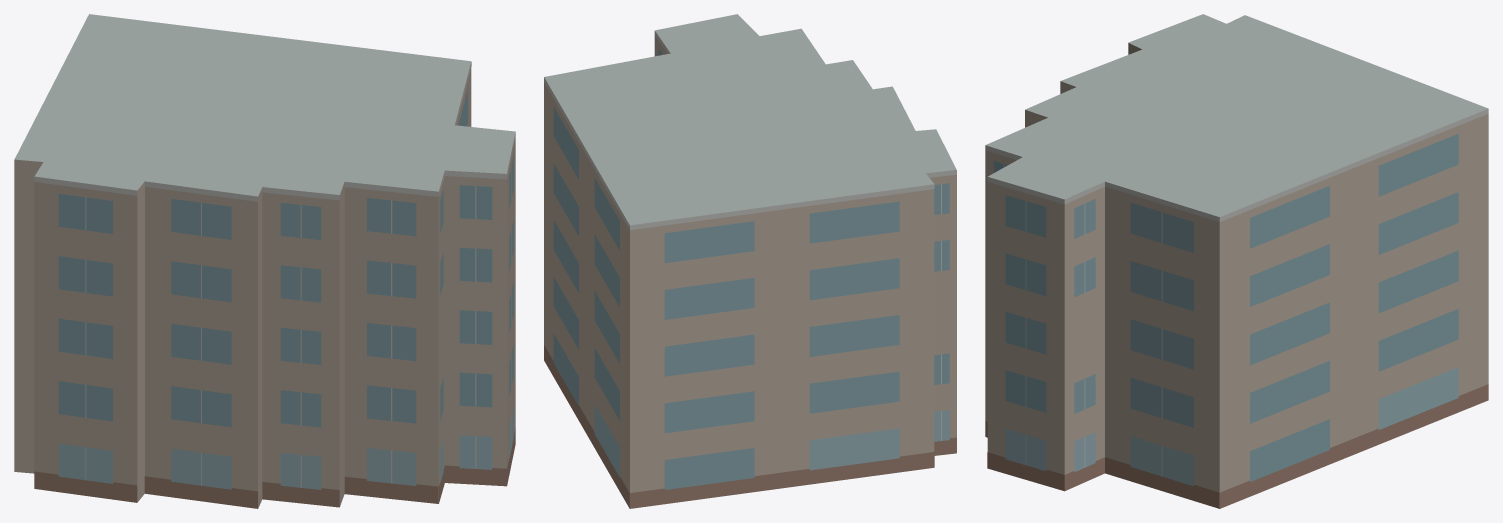
File: survey-upis-32709952.glb
3 renders of one model, left to right at view 1: azimuth 30°, elevation 25°; view 2: azimuth 150°, elevation 25°; view 3: azimuth 270°, elevation 25°, orthographic. The views are drawn at different scales.
Parts seen in each view (by area): view 1: survey-upis-32709952.tmp; view 2: survey-upis-32709952.tmp; view 3: survey-upis-32709952.tmp.
Boxes of the visible parts, x1,y1,x2,y2 form: survey-upis-32709952.tmp: (14, 14, 515, 508); survey-upis-32709952.tmp: (544, 14, 956, 508); survey-upis-32709952.tmp: (985, 14, 1488, 508).
Size of the model in its own units: 21.3 by 14.25 by 22.29.
